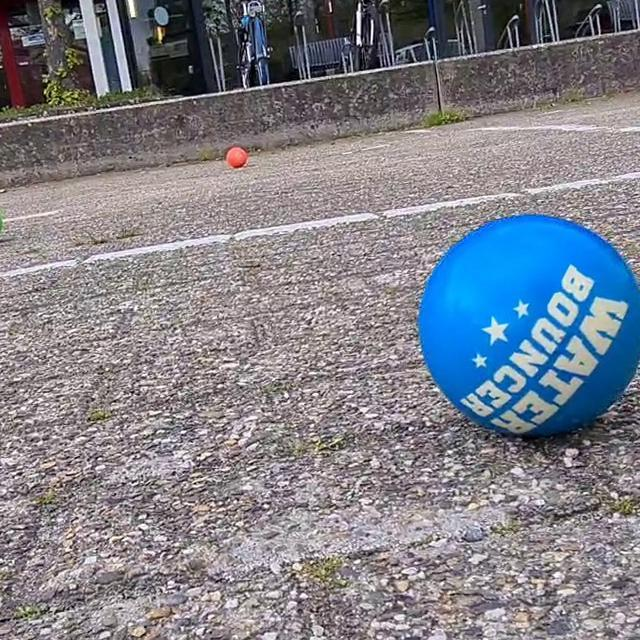ball: (224, 142, 249, 170)
